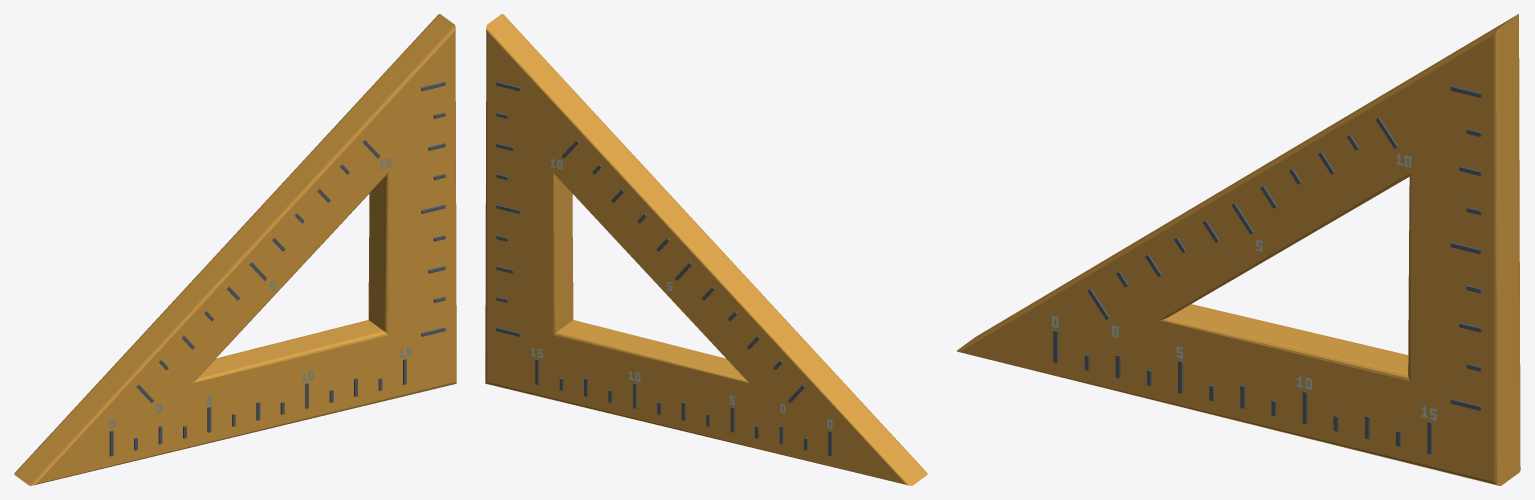
The model's file is workshop-triangle-horizontal-labels.glb.
The picture shows the model from 3 angles, left to right: view 1: azimuth 30°, elevation 25°; view 2: azimuth 150°, elevation 25°; view 3: azimuth 330°, elevation 25°; orthographic projection. The views are drawn at different scales.
Visible parts, largest first — view 1: brass, steelInset; view 2: brass, steelInset; view 3: brass, steelInset.
Part boxes in pixels (<box>): brass: <box>14,14,456,485</box>; steelInset: <box>109,82,445,456</box>; brass: <box>485,14,927,485</box>; steelInset: <box>496,82,832,456</box>; brass: <box>957,14,1520,485</box>; steelInset: <box>1053,86,1481,454</box>.
Bounding box in the file's own units: 0.3058 × 0.2457 × 0.0253.
